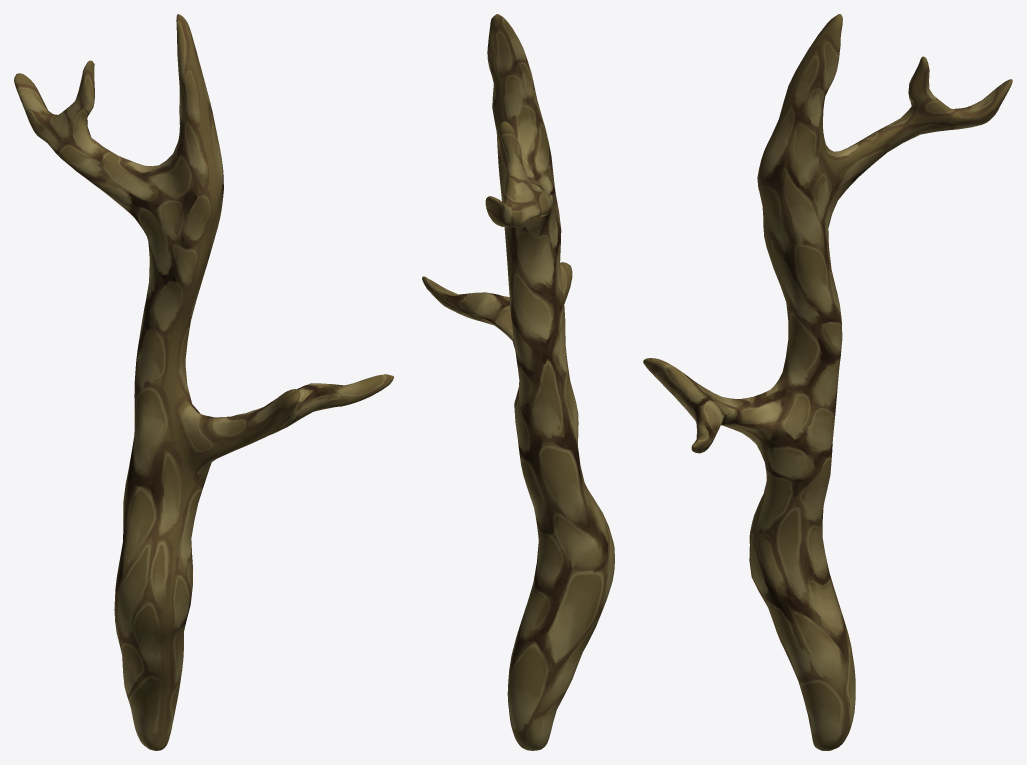
Rendered from branch2.fbx.
The picture shows the model from 3 angles, left to right: view 1: azimuth 30°, elevation 25°; view 2: azimuth 150°, elevation 25°; view 3: azimuth 270°, elevation 25°; orthographic projection. The views are drawn at different scales.
Visible parts, largest first — view 1: branch2; view 2: branch2; view 3: branch2.
Boxes of the visible parts, bbox=[...] form: branch2: bbox=[14, 14, 393, 750]; branch2: bbox=[422, 14, 614, 750]; branch2: bbox=[643, 14, 1012, 750].
Bounding box in the file's own units: 331 × 992 × 443.
1 material, 1 textured.
